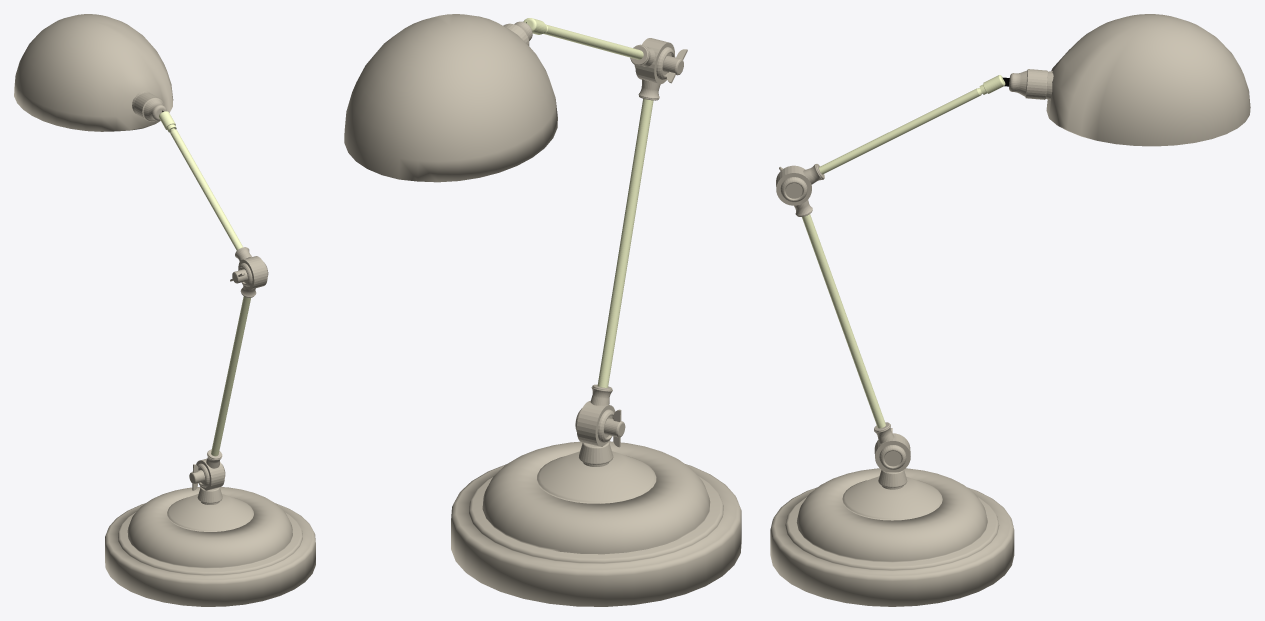
Rendered from light.fbx.
The picture shows the model from 3 angles, left to right: view 1: azimuth 30°, elevation 25°; view 2: azimuth 150°, elevation 25°; view 3: azimuth 270°, elevation 25°; orthographic projection. The views are drawn at different scales.
Visible parts, largest first — view 1: 土台-下, 上部, 棒-下, 棒-上, 調整ねじ-中, 調整ねじ-下, 支柱上; view 2: 土台-下, 上部, 棒-下, 調整ねじ-下, 調整ねじ-中, 棒-上, 土台- 上; view 3: 土台-下, 上部, 棒-下, 棒-上, 調整ねじ-中, 支柱上, 調整ねじ-下.
Boxes of the visible parts, bbox=[...] form: 土台-下: bbox=[105, 486, 315, 606]; 上部: bbox=[14, 14, 173, 131]; 棒-下: bbox=[211, 296, 250, 456]; 棒-上: bbox=[159, 111, 242, 250]; 調整ねじ-中: bbox=[230, 256, 268, 289]; 調整ねじ-下: bbox=[189, 458, 225, 490]; 支柱上: bbox=[132, 91, 166, 121]; 土台-下: bbox=[451, 441, 741, 606]; 上部: bbox=[344, 14, 557, 182]; 棒-下: bbox=[597, 98, 653, 387]; 調整ねじ-下: bbox=[575, 401, 625, 447]; 調整ねじ-中: bbox=[634, 38, 687, 84]; 棒-上: bbox=[523, 18, 643, 59]; 土台- 上: bbox=[579, 442, 613, 466]; 土台-下: bbox=[770, 468, 1014, 606]; 上部: bbox=[1046, 14, 1250, 146]; 棒-下: bbox=[802, 214, 885, 428]; 棒-上: bbox=[819, 75, 1005, 174]; 調整ねじ-中: bbox=[776, 165, 811, 205]; 支柱上: bbox=[1009, 69, 1053, 100]; 調整ねじ-下: bbox=[874, 428, 910, 472].
Size of the model in its own units: 17.3 by 41.57 by 34.07.
